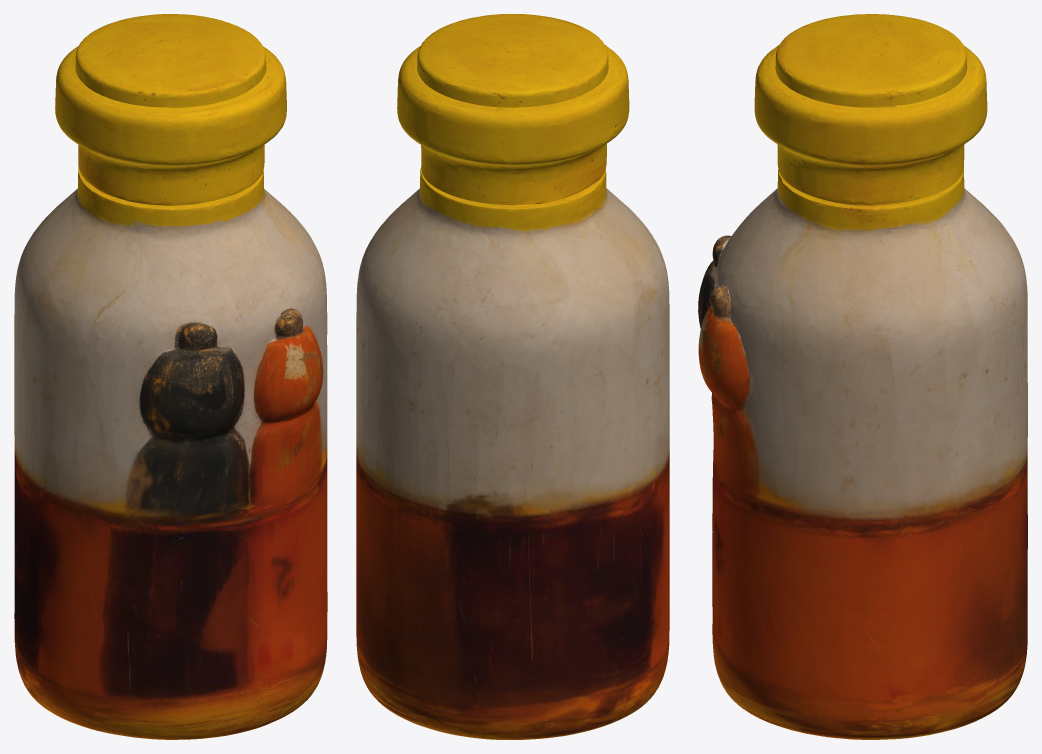
File: w5rakyom.glb
3 views of the same model, side by side, from view 1: azimuth 30°, elevation 25°; view 2: azimuth 150°, elevation 25°; view 3: azimuth 270°, elevation 25° (orthographic).
Visible parts, largest first — view 1: output_unwrapped; view 2: output_unwrapped; view 3: output_unwrapped.
Boxes of the visible parts, left/top/right/bottom form: output_unwrapped: left=14, top=14, right=327, bottom=739; output_unwrapped: left=356, top=14, right=669, bottom=739; output_unwrapped: left=698, top=14, right=1027, bottom=739.
Size of the model in its own units: 0.0267 by 0.06 by 0.0282.
Materials: 1 (1 with a texture image).
